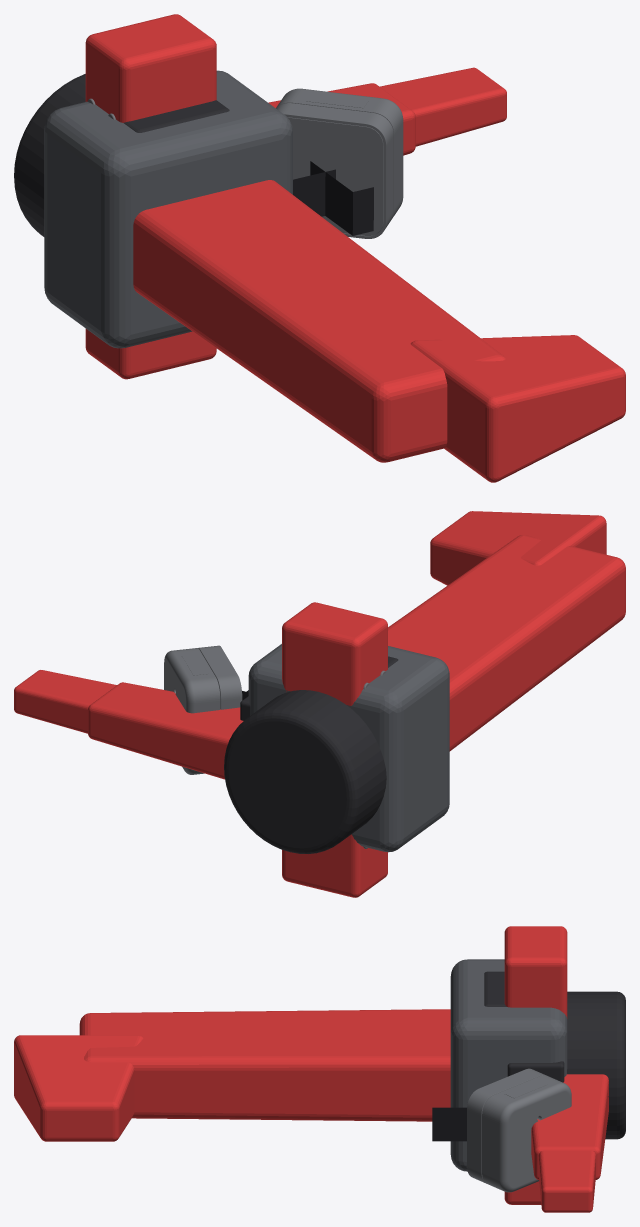
The model's file is arm.glb.
3 views of the same model, one above another, from view 1: azimuth 30°, elevation 25°; view 2: azimuth 150°, elevation 25°; view 3: azimuth 270°, elevation 25° (orthographic). The views are drawn at different scales.
Parts seen in each view (by area): view 1: b3, b1, b10, b5, b8, b2, b4; view 2: b3, b10, b1, b4, b5; view 3: b3, b10, b1, b4, b5, b8, b2.
Part boxes in pixels (left/top/right/bottom): b3: left=14, top=74, right=625, bottom=482; b1: left=44, top=70, right=292, bottom=348; b10: left=85, top=14, right=403, bottom=379; b5: left=380, top=67, right=506, bottom=146; b8: left=293, top=161, right=373, bottom=235; b2: left=124, top=100, right=229, bottom=132; b4: left=268, top=83, right=415, bottom=155; b3: left=224, top=511, right=625, bottom=853; b10: left=164, top=602, right=387, bottom=897; b1: left=248, top=644, right=449, bottom=852; b4: left=88, top=682, right=243, bottom=779; b5: left=14, top=670, right=116, bottom=733; b3: left=14, top=991, right=625, bottom=1141; b10: left=467, top=926, right=571, bottom=1204; b1: left=450, top=959, right=567, bottom=1171; b4: left=531, top=1074, right=608, bottom=1179; b5: left=538, top=1150, right=595, bottom=1212; b8: left=432, top=1107, right=466, bottom=1141; b2: left=484, top=971, right=506, bottom=1006.
Size of the model in its own units: 0.1741 by 0.1168 by 0.2624.
